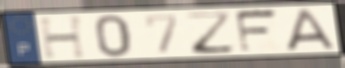0: (93, 13, 134, 59)
7: (141, 13, 181, 55)
A: (285, 7, 338, 52)
F: (233, 8, 282, 55)
H: (36, 14, 91, 61)
Z: (182, 10, 239, 56)
